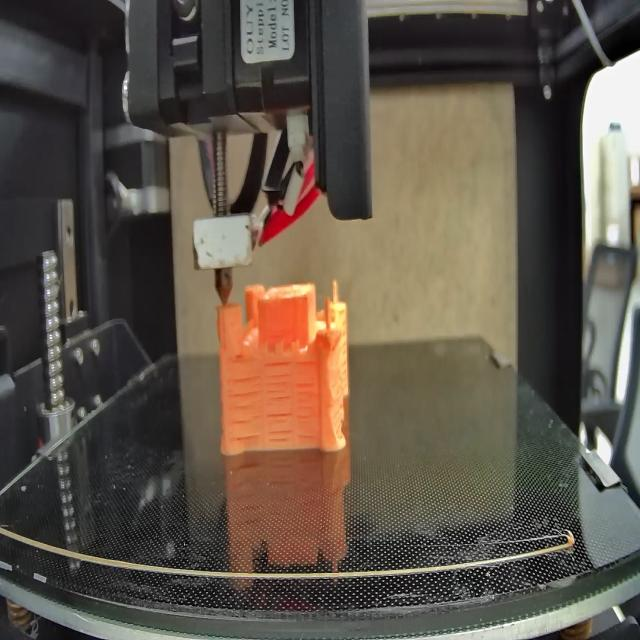cracks: (224, 374, 260, 442), (296, 380, 324, 440), (264, 361, 294, 405), (266, 412, 294, 444), (294, 356, 323, 373), (224, 348, 247, 363)
